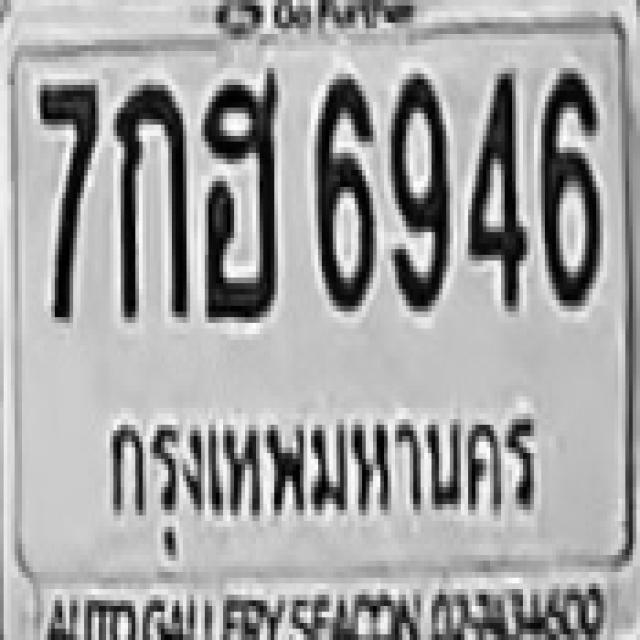10GorGai: (114, 79, 186, 317)
4: (464, 62, 523, 306)
53HorNokHook: (199, 68, 276, 317)
6: (538, 65, 596, 303), (313, 74, 371, 306)
7: (37, 79, 95, 317)
9: (388, 68, 446, 306)
Bangkok: (93, 407, 541, 560)
